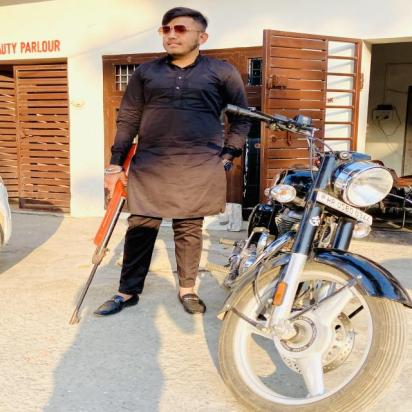Gun: (68, 141, 140, 326)
